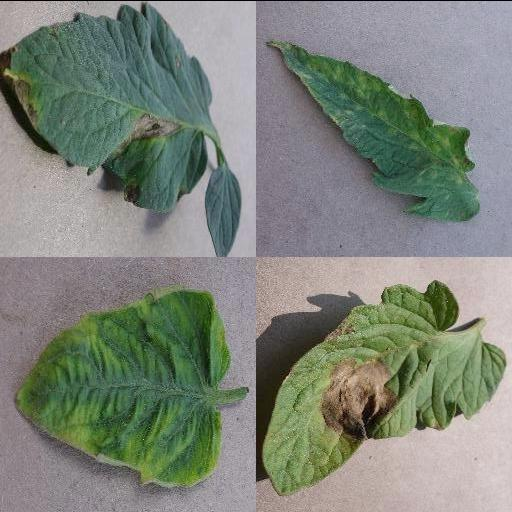Early Blight: (2, 0, 211, 213)
Healthy: (203, 166, 242, 256)
Late Blight: (262, 279, 508, 495)
Leaf Mold: (265, 40, 479, 222)
Yellow Leaf Curl Virus: (14, 287, 228, 489)
